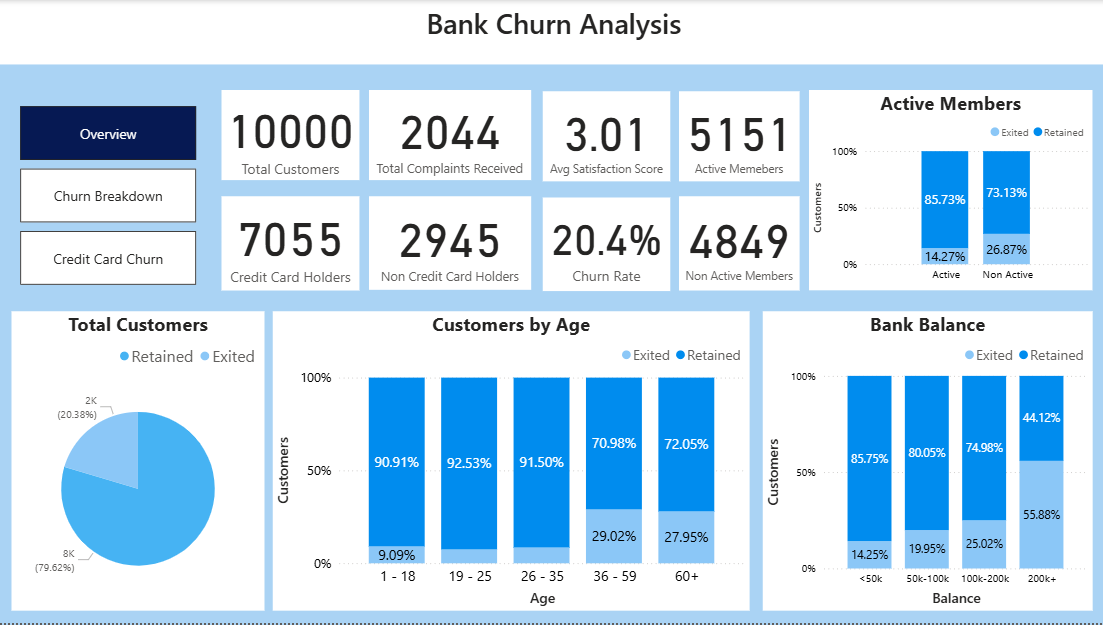

This screenshot's page, from the dashboard's own definition file:
{"tool":"powerbi","page":{"name":"Overview","canvas":[1280,720],"ordinal":0},"visuals":[{"type":"textbox","box":[0,0,1280.4,74.7],"z":0},{"type":"card","fields":{"Values":["Measure.Total Customers"]},"box":[256.5,104.3,159.4,104.3],"z":1000},{"type":"pieChart","title":"Total Customers","fields":{"Category":["Exited.Exit  Status"],"Y":["Measure.Total Customers"]},"box":[13.9,359.6,292.4,345.7],"z":2000},{"type":"hundredPercentStackedColumnChart","title":"Customers by Age","fields":{"Category":["Customer-Churn-Records.Age Group"],"Y":["Measure.Total Customers"],"Series":["Exited.Exit  Status"]},"box":[315.8,359.6,550.6,345.7],"z":3000},{"type":"card","fields":{"Values":["Measure.Churn Rate"]},"box":[628,227.7,147.4,107.9],"z":4000},{"type":"card","fields":{"Values":["Measure.Credit Card Holders"]},"box":[256.5,226.5,159.4,109.1],"z":5000},{"type":"card","fields":{"Values":["Measure.Non Credit Card Holders"]},"box":[426.7,226.5,187,107.9],"z":6000},{"type":"card","fields":{"Values":["Measure.Total Complaints Received"]},"box":[426.7,104.3,187,104.3],"z":7000},{"type":"card","fields":{"Values":["Measure.Avg Satisfaction Score"]},"box":[628,105.5,147.4,104.3],"z":8000},{"type":"pageNavigator","box":[24.5,122.6,203.4,207.8],"z":9000},{"type":"hundredPercentStackedColumnChart","title":"Bank Balance","fields":{"Category":["Customer-Churn-Records.Balance grp"],"Y":["Measure.Total Customers"],"Series":["Exited.Exit  Status"]},"box":[881.3,359.6,380.9,345.7],"z":10000},{"type":"hundredPercentStackedColumnChart","title":"Active Members","fields":{"Category":["Active Members.Active Members"],"Y":["Measure.Total Customers"],"Series":["Exited.Exit  Status"]},"box":[934.8,104.3,327.2,231.3],"z":11000},{"type":"card","fields":{"Values":["Measure.Active Memebers"]},"box":[785,105.5,139,104.3],"z":12000},{"type":"card","fields":{"Values":["Measure.Non Active Memebers"]},"box":[785,226.5,139,109.1],"z":12001}]}

Visuals, with their boxes in screenshot pixels (x1, y1, x2, y2), scaled from the page's 1280x720 canvas onto the 1103x625 screenshot:
textbox: [0,0,1102,65]
card - Measure.Total Customers: [221,91,358,181]
"Total Customers" pieChart: [12,312,264,612]
"Customers by Age" hundredPercentStackedColumnChart: [272,312,747,612]
card - Measure.Churn Rate: [541,198,668,291]
card - Measure.Credit Card Holders: [221,197,358,291]
card - Measure.Non Credit Card Holders: [368,197,529,290]
card - Measure.Total Complaints Received: [368,91,529,181]
card - Measure.Avg Satisfaction Score: [541,92,668,182]
pageNavigator: [21,106,196,287]
"Bank Balance" hundredPercentStackedColumnChart: [759,312,1088,612]
"Active Members" hundredPercentStackedColumnChart: [806,91,1087,291]
card - Measure.Active Memebers: [676,92,796,182]
card - Measure.Non Active Memebers: [676,197,796,291]
